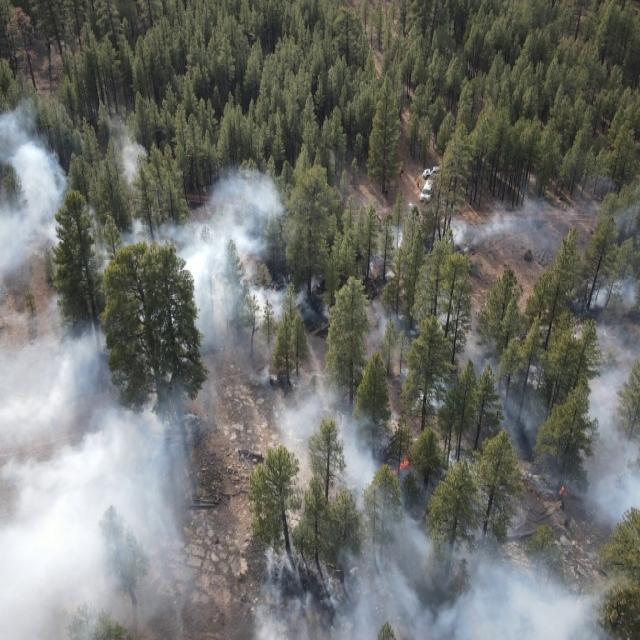fire: (521, 472, 578, 511), (380, 450, 428, 492), (466, 604, 484, 640)
smoke: (256, 541, 640, 640), (1, 293, 104, 639), (105, 376, 221, 640), (78, 130, 289, 274), (364, 274, 500, 408), (570, 282, 640, 540), (366, 201, 640, 264), (190, 274, 338, 388), (0, 107, 75, 292), (270, 387, 380, 493), (490, 351, 564, 472), (349, 492, 521, 539)
